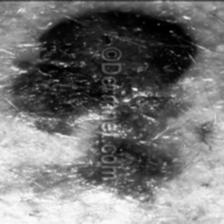Potentially Malignant Skin Tumors: (14, 11, 187, 109), (76, 98, 178, 196)
